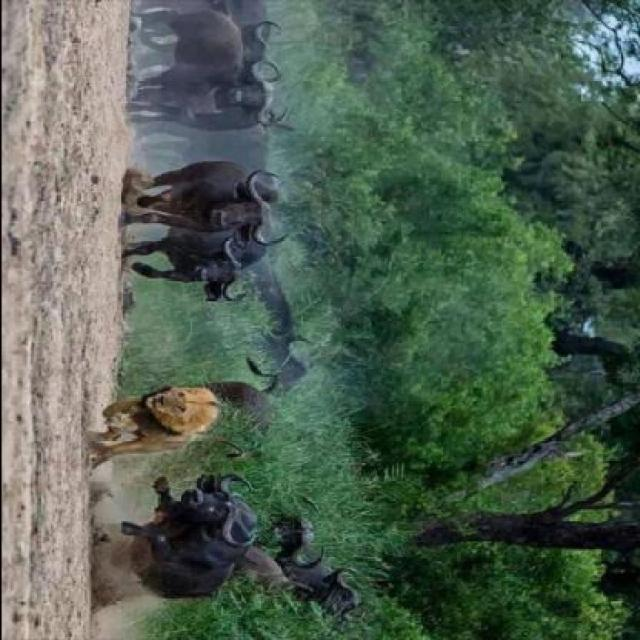Lion: (72, 380, 252, 466)
